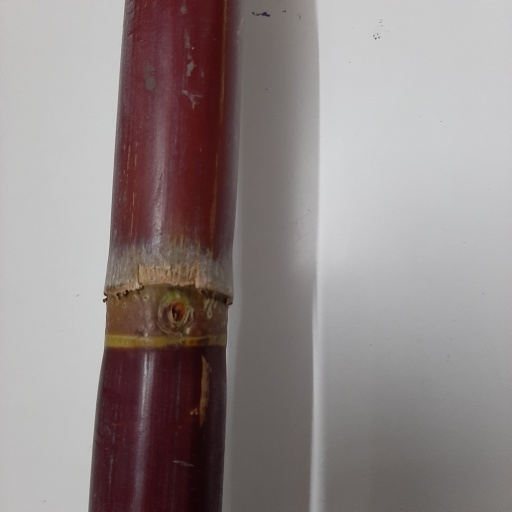Damage_Bud: (167, 296, 191, 329)
